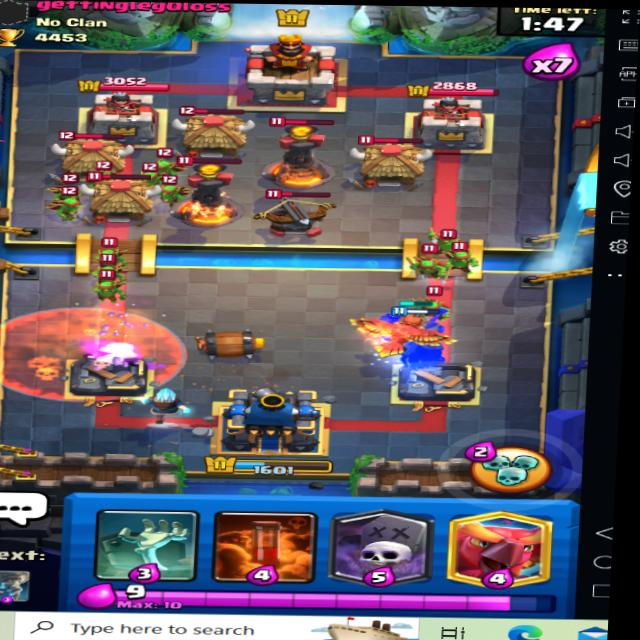goblin-hut: (75, 167, 166, 223), (168, 103, 255, 159), (352, 133, 431, 189), (54, 131, 137, 181)
inferno-tower: (165, 151, 260, 234), (262, 114, 335, 184)
spear-goblin: (413, 286, 454, 323), (92, 236, 129, 262), (88, 277, 129, 300), (447, 240, 477, 269), (428, 229, 461, 255), (53, 193, 86, 219), (90, 266, 131, 285), (418, 253, 450, 277), (142, 163, 173, 184), (158, 180, 182, 199)
x-bow: (251, 181, 337, 237)
